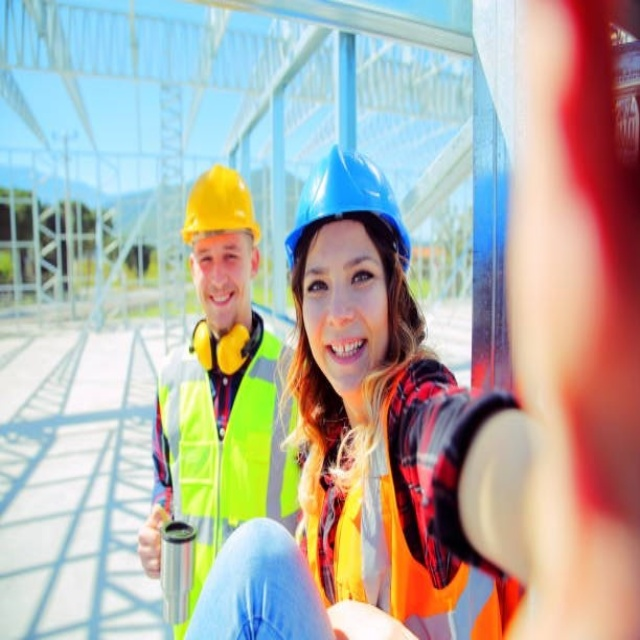Sin_gafas: (307, 249, 381, 300), (195, 242, 246, 268)
Sin_guantes: (137, 506, 167, 578)
Sin_mascara: (317, 329, 368, 381), (205, 282, 235, 317)
